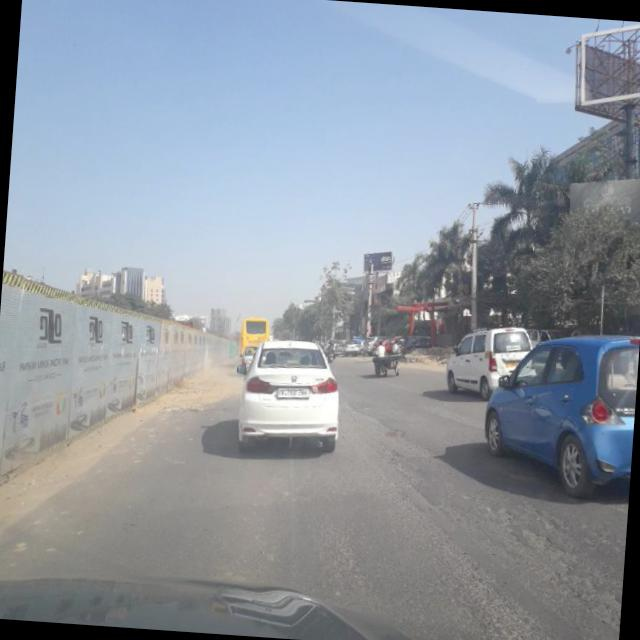crack: (454, 489, 626, 608), (302, 514, 385, 594)
